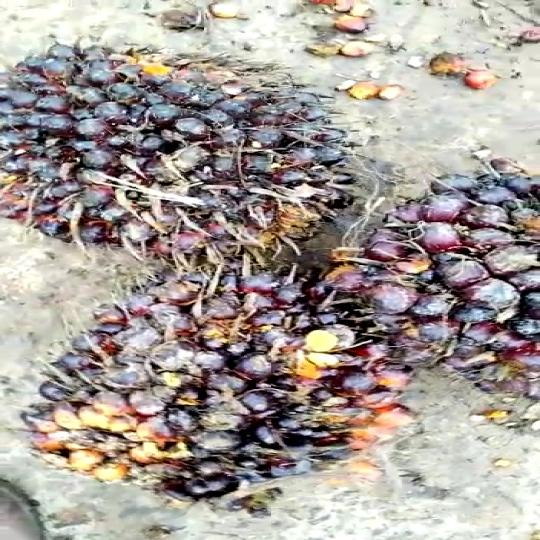kurang masak: (0, 21, 357, 279), (32, 251, 378, 515), (332, 169, 540, 444)
